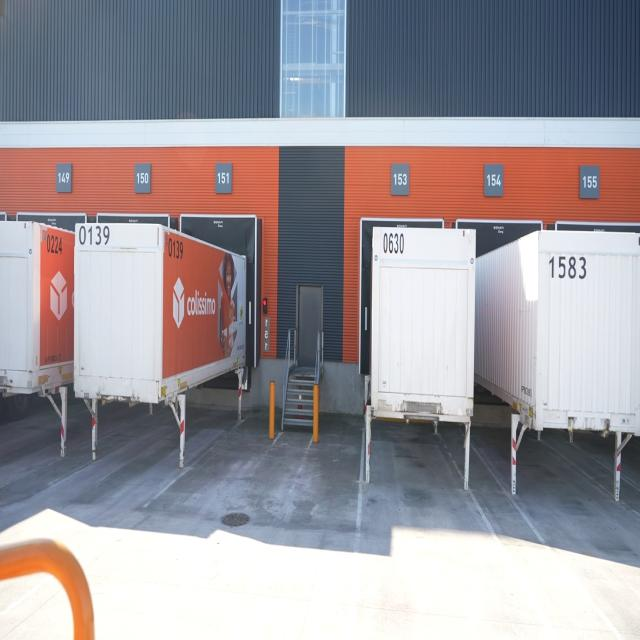Code: (543, 249, 591, 289), (378, 230, 418, 269), (76, 224, 110, 250), (39, 233, 66, 256), (164, 235, 187, 261)
